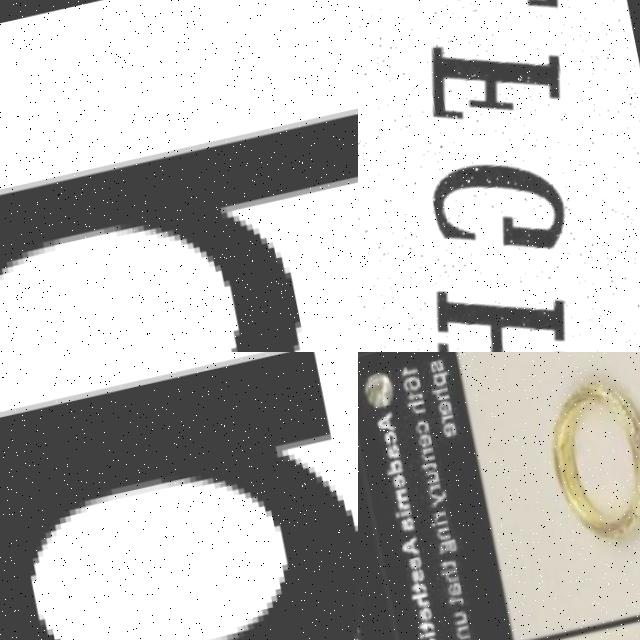1: (400, 366, 417, 376)
6: (401, 374, 422, 394)
A: (400, 536, 420, 559), (375, 413, 394, 434), (400, 516, 415, 535), (385, 444, 400, 460), (447, 582, 461, 596)
C: (383, 430, 397, 448), (414, 419, 429, 435), (424, 636, 439, 640)
D: (384, 458, 403, 476)
E: (391, 473, 407, 492), (407, 555, 423, 571), (436, 399, 451, 416), (418, 607, 433, 623), (441, 421, 456, 437), (417, 434, 432, 448)
F: (454, 637, 473, 640)
G: (437, 538, 458, 556)
H: (409, 592, 430, 609), (430, 386, 449, 402), (441, 569, 459, 585), (407, 400, 425, 415)
I: (395, 510, 412, 519), (419, 630, 436, 639), (431, 519, 448, 528)
M: (394, 487, 410, 512)
N: (435, 525, 450, 542), (455, 625, 470, 640), (420, 448, 434, 462)
P: (430, 371, 448, 387)
R: (440, 413, 454, 426), (433, 512, 446, 521), (428, 486, 441, 494)
S: (410, 569, 424, 583), (428, 360, 442, 374)
T: (410, 581, 428, 596), (438, 559, 457, 572), (417, 620, 435, 633), (420, 461, 438, 474), (405, 390, 423, 402), (448, 594, 464, 607)
U: (424, 469, 439, 487), (453, 612, 467, 626)
Y: (428, 490, 447, 508)
